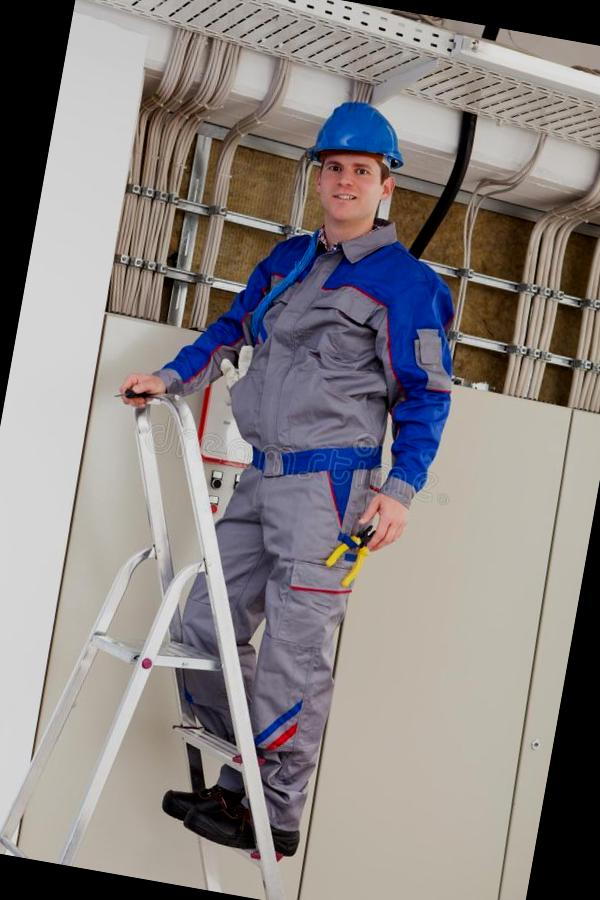helmet: (295, 81, 414, 185)
no_vest: (179, 213, 479, 511)
person: (66, 67, 500, 873)
